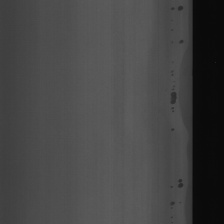oil_spot: (169, 64, 178, 132), (168, 180, 176, 219), (169, 4, 175, 49), (175, 170, 184, 193), (178, 39, 185, 49), (177, 5, 184, 13)
